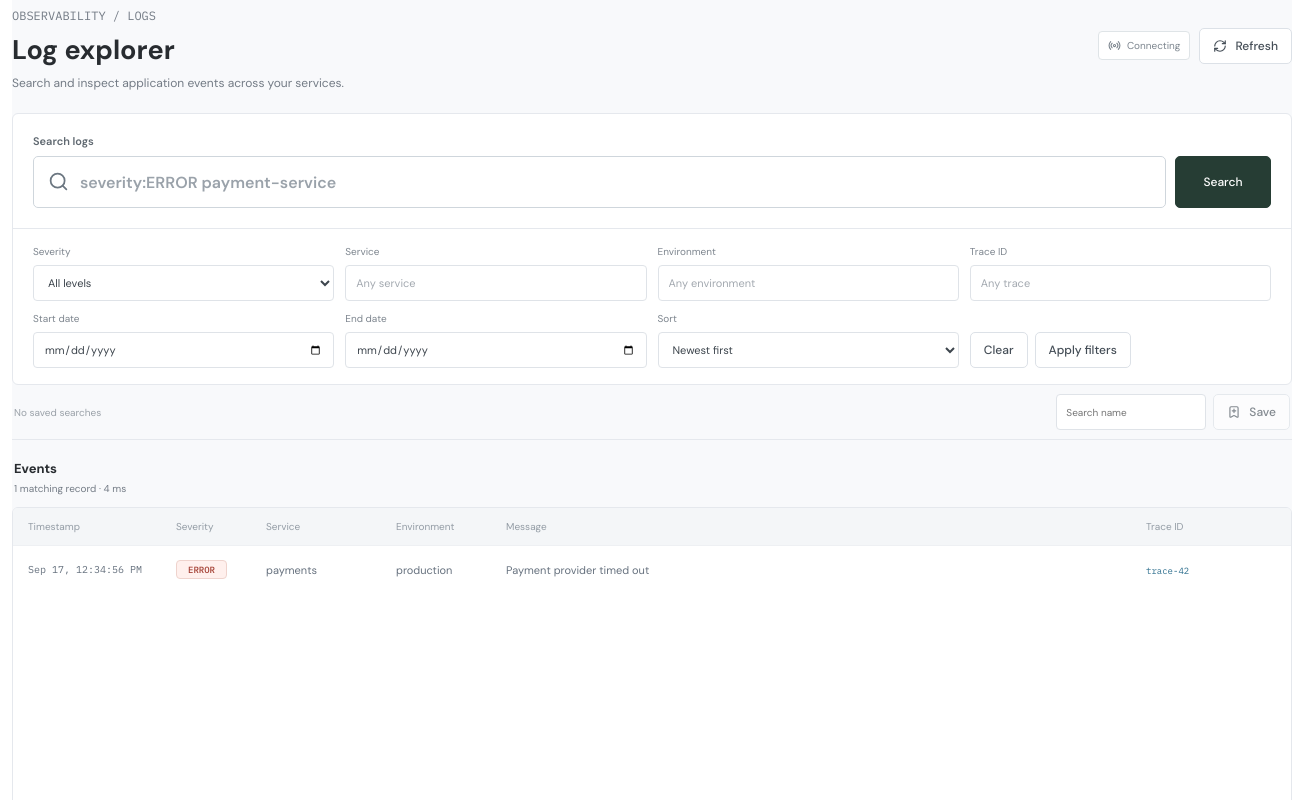
it: creates, applies, and deletes a saved search
expect the text "Payment provider timed out" is shown: met, box [491,546,1131,594]
Type "payment timeout" into the field labelled "Search logs". click: (600, 182)
box: [33,156,1166,208]
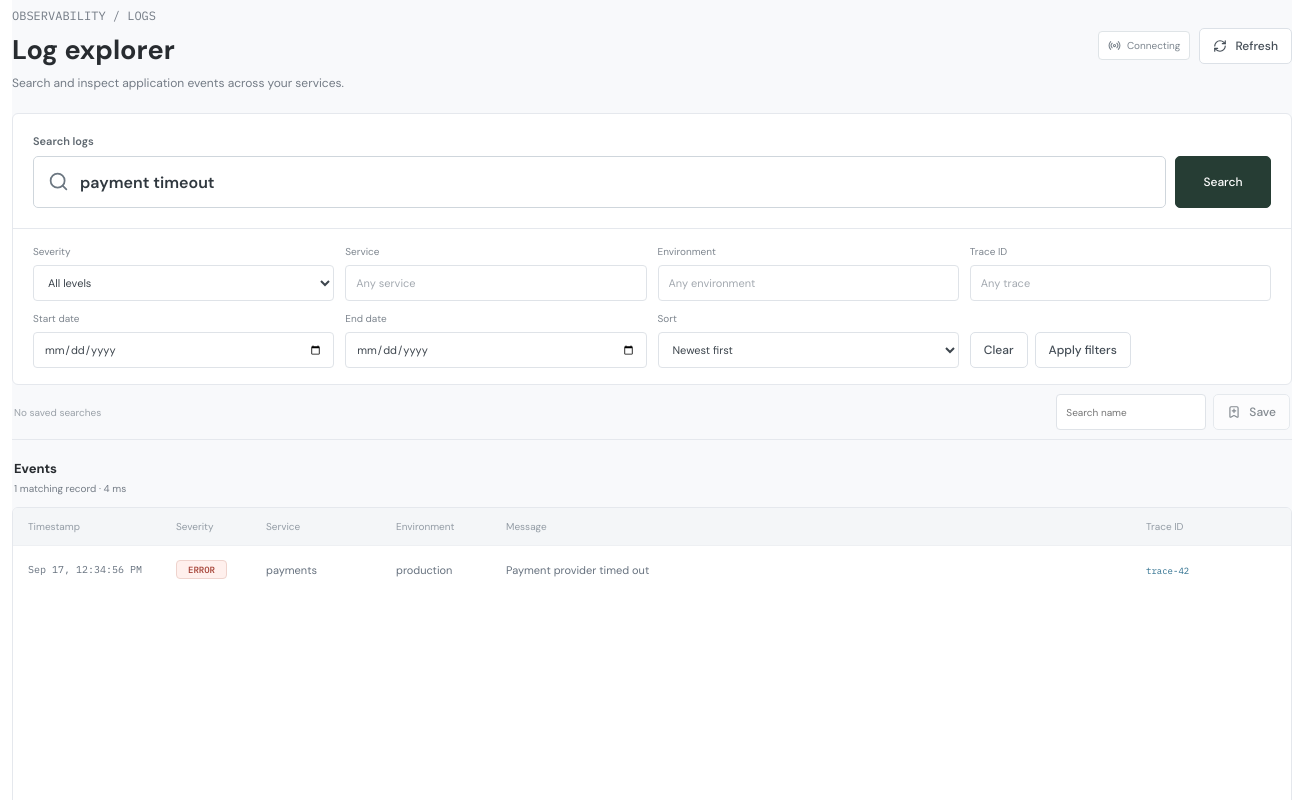
Select "ERROR" in the dropdown labelled "Severity". click: (184, 283)
box: [33,265,334,301]
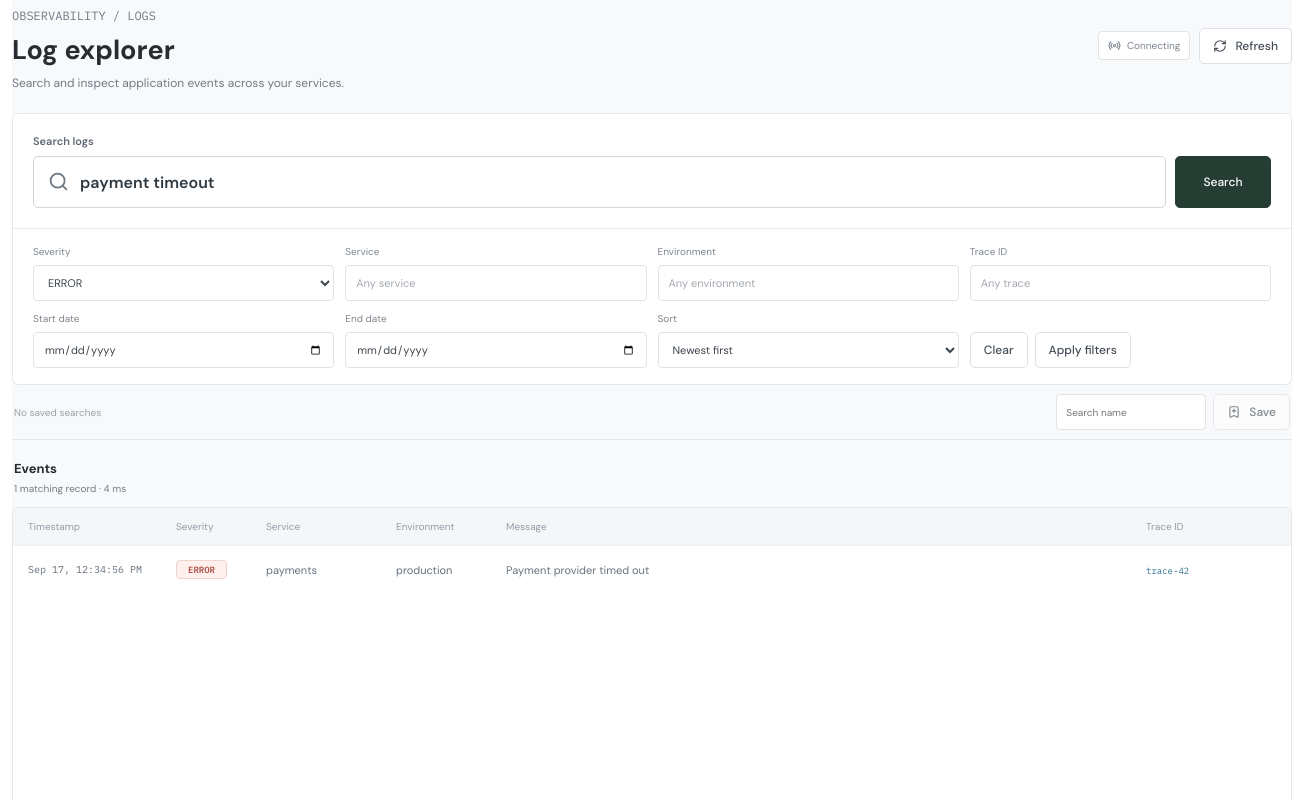
Type "Payment errors" into the field named "Saved search name". click: (1131, 412)
box: [1056,394,1206,430]
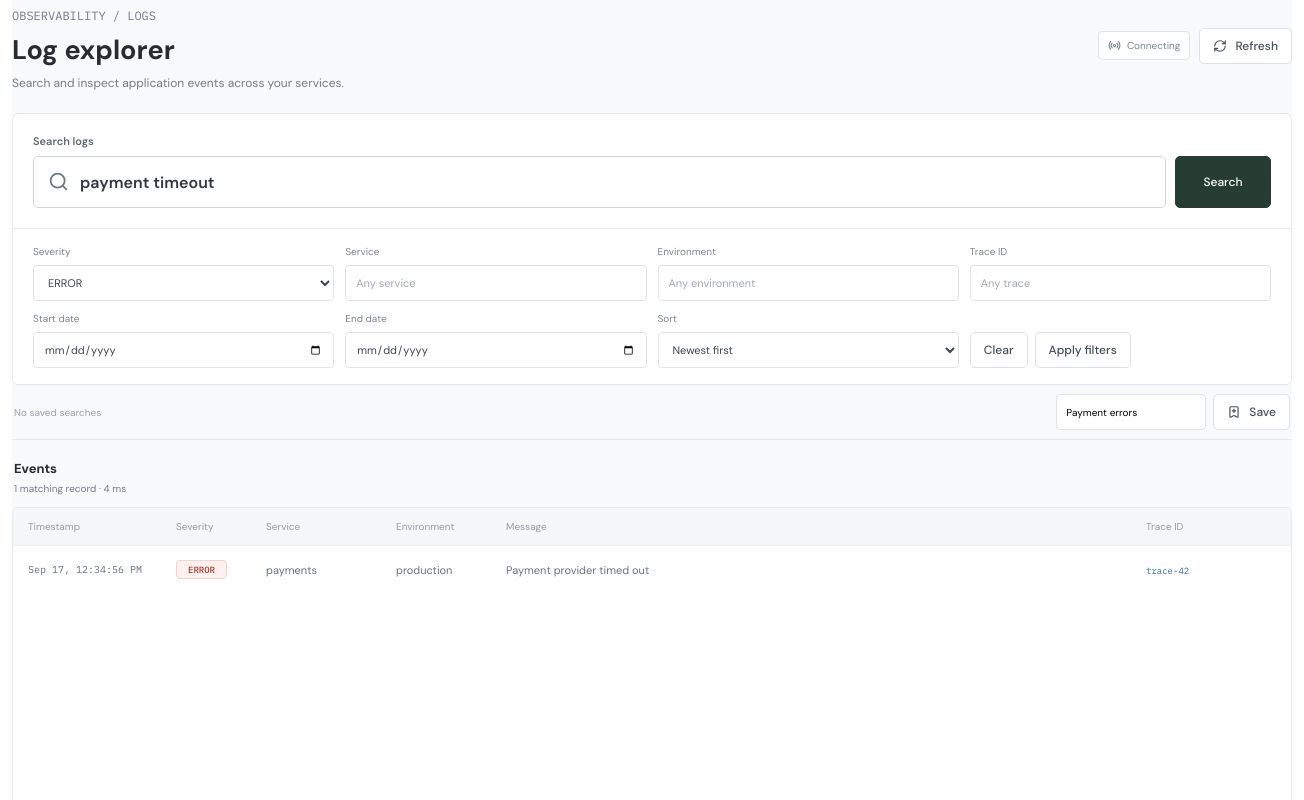
Click the button "Save". click: (1252, 412)
box: [1213,394,1290,430]
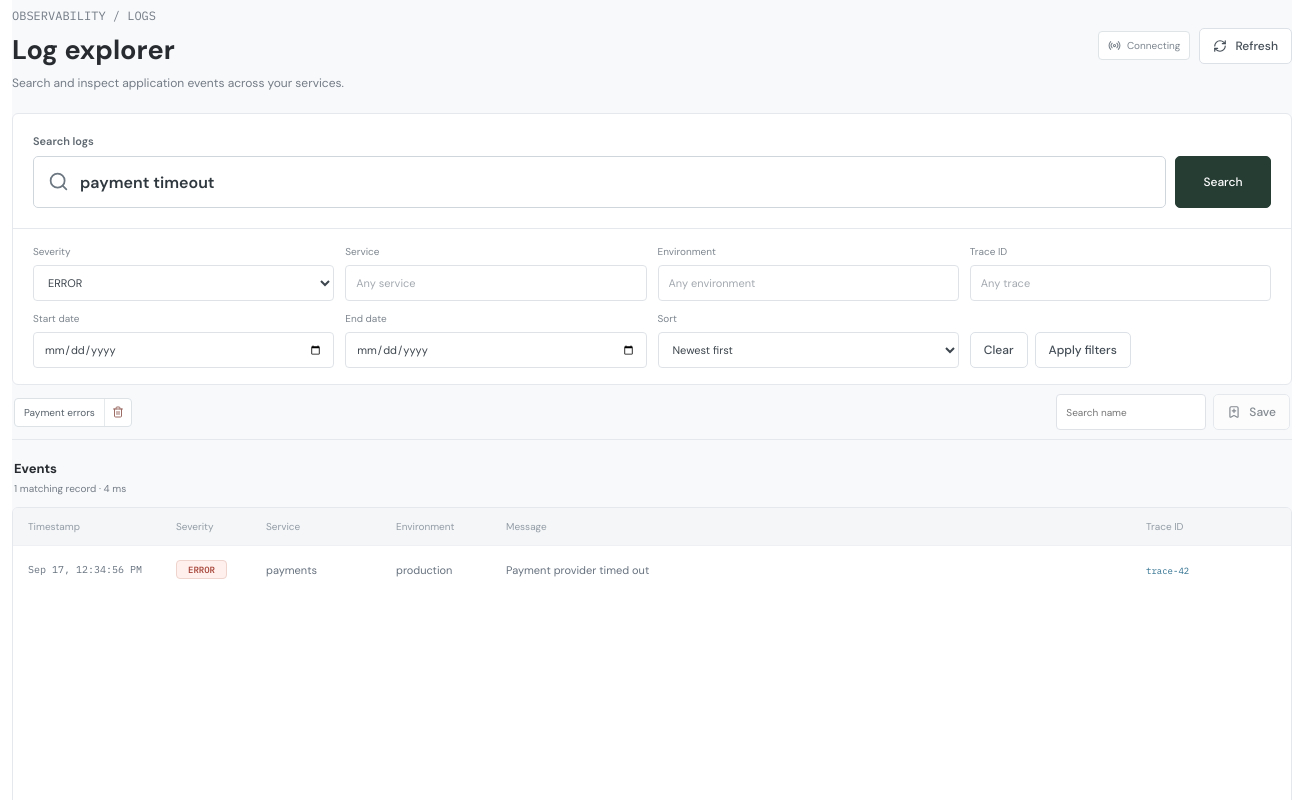
Click the button "Payment errors". click: (59, 412)
box: [15,399,104,426]
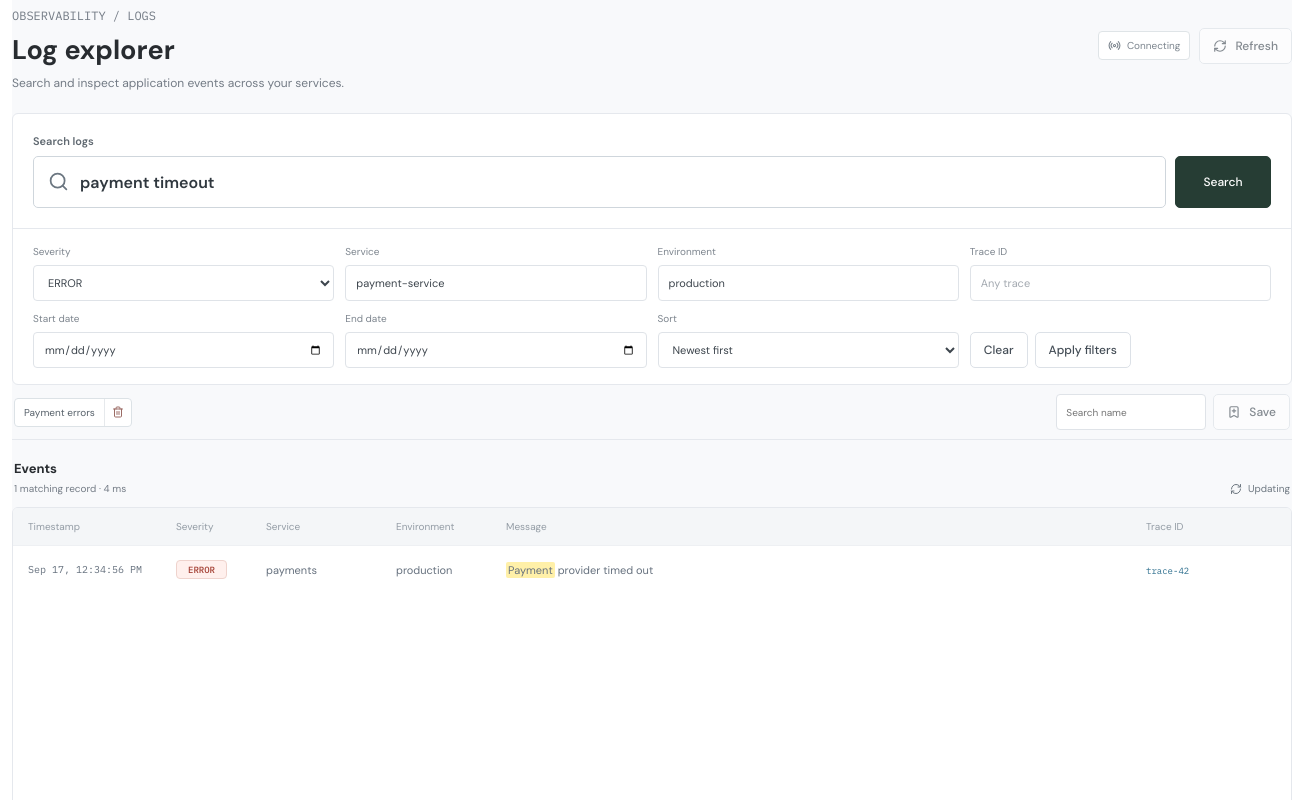
expect the field labelled "Service" holds "payment-service": met, box [345,265,647,301]
Click the button named "Delete Payment errors". click: (117, 412)
box: [104,399,131,426]
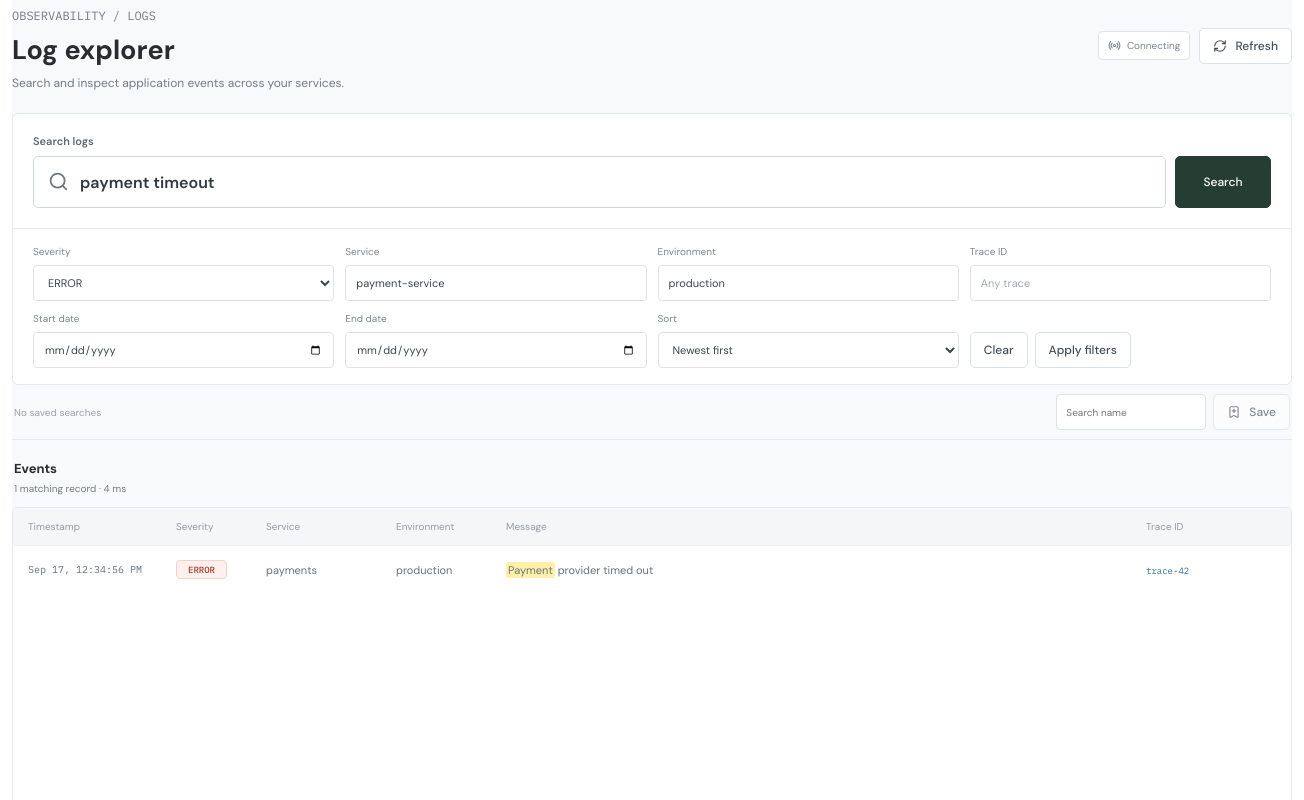
expect the button "Payment errors" is gone: met
